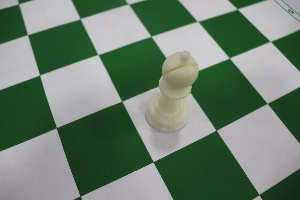white_bishop: (142, 30, 201, 139)
